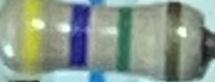Blue: (69, 3, 90, 68)
Green: (116, 8, 132, 71)
Side-Gold: (163, 2, 181, 79)
Yellow: (20, 1, 47, 75)
